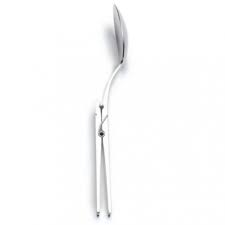spoon: (87, 1, 132, 221)
